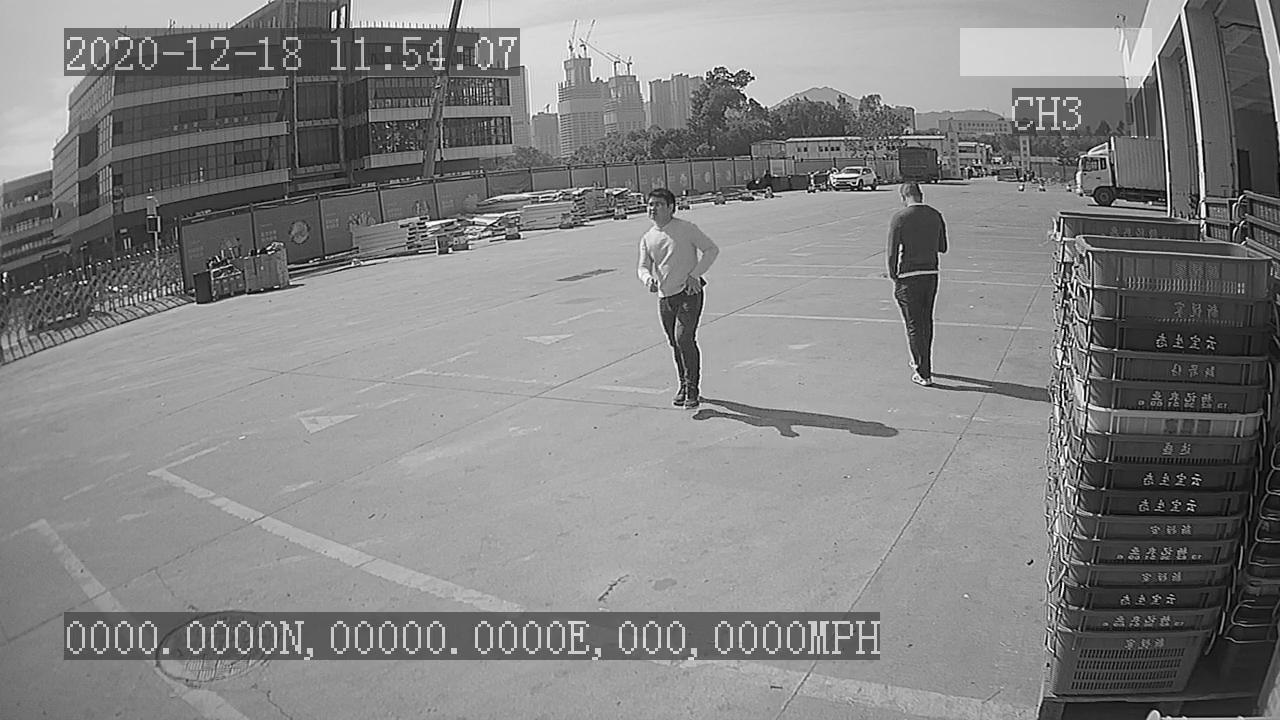person: (629, 177, 720, 424), (879, 177, 954, 394)
